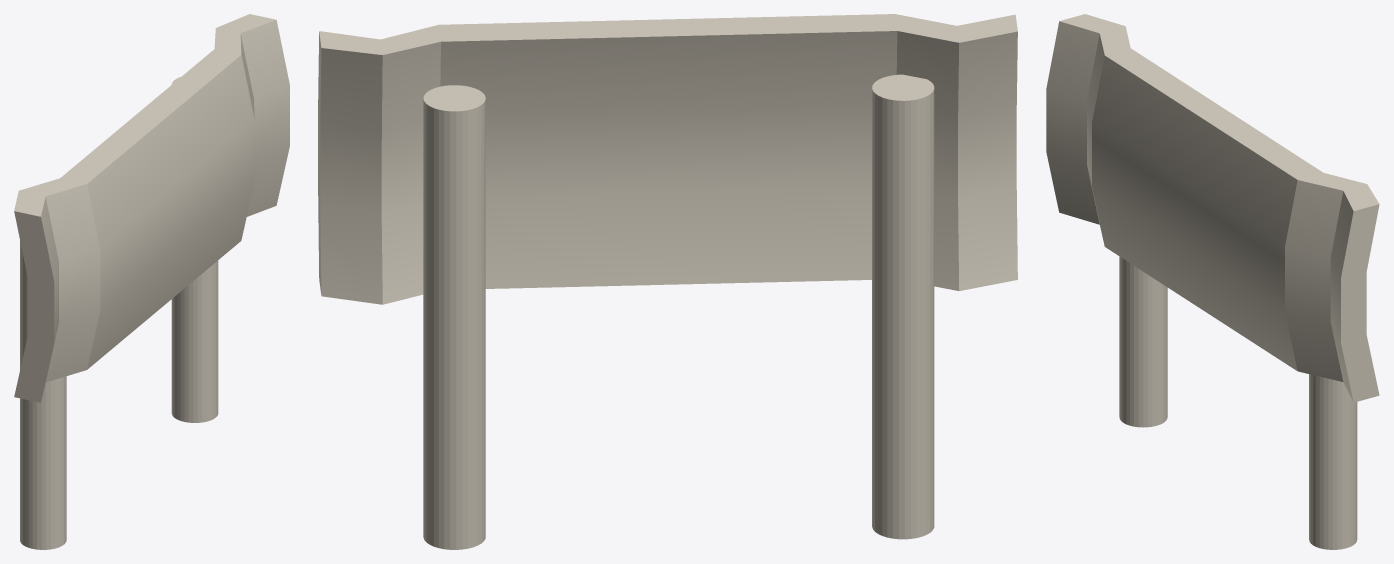
File: 031_ガードレール.glb
3 views of the same model, side by side, from view 1: azimuth 30°, elevation 25°; view 2: azimuth 150°, elevation 25°; view 3: azimuth 270°, elevation 25° (orthographic). The views are drawn at different scales.
Parts seen in each view (by area): view 1: ガードレール; view 2: ガードレール; view 3: ガードレール.
Part boxes in pixels (bbox=[...]): ガードレール: bbox=[14, 14, 289, 549]; ガードレール: bbox=[318, 14, 1017, 549]; ガードレール: bbox=[1046, 14, 1379, 549].
Size of the model in its own units: 1.03 by 0.8919 by 0.7192.
